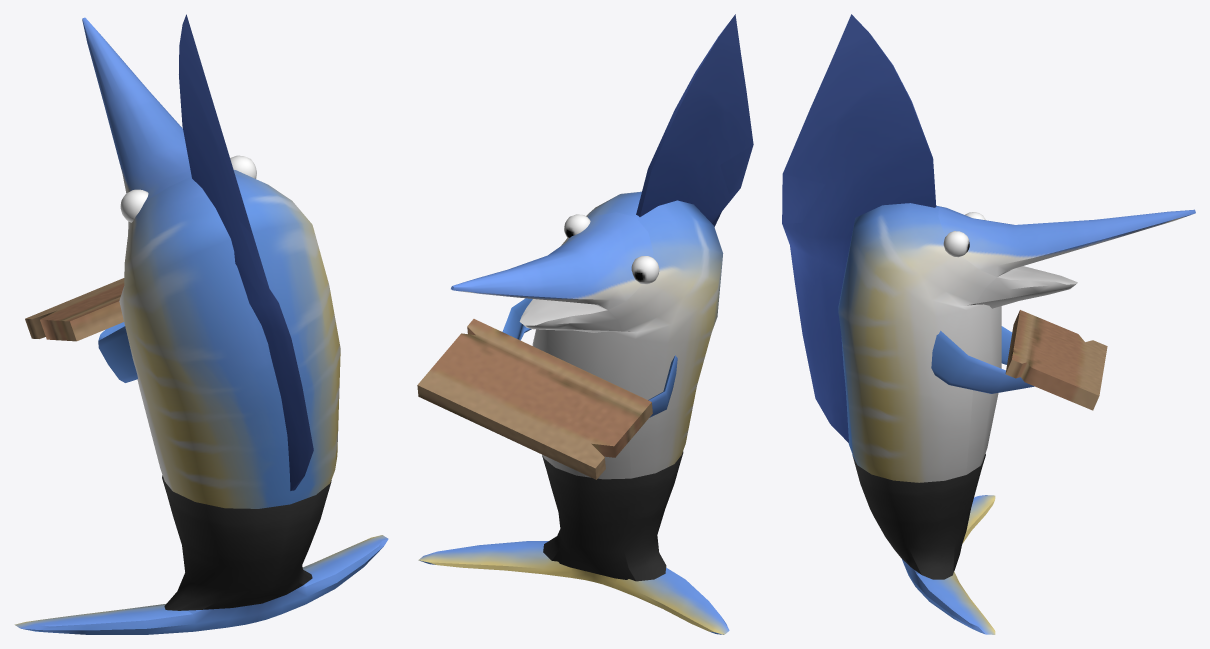
Rendered from kajiki_idle_c_04.fbx.
3 views of the same model, side by side, from view 1: azimuth 30°, elevation 25°; view 2: azimuth 150°, elevation 25°; view 3: azimuth 270°, elevation 25° (orthographic). The views are drawn at different scales.
Visible parts, largest first — view 1: I_c_04; view 2: I_c_04; view 3: I_c_04.
Boxes of the visible parts, x1,y1,x2,y2 form: I_c_04: (14, 14, 388, 634); I_c_04: (417, 14, 753, 634); I_c_04: (782, 14, 1195, 634).
Bounding box in the file's own units: 1.46 × 2.51 × 1.83.
Materials: 1 (1 with a texture image).
